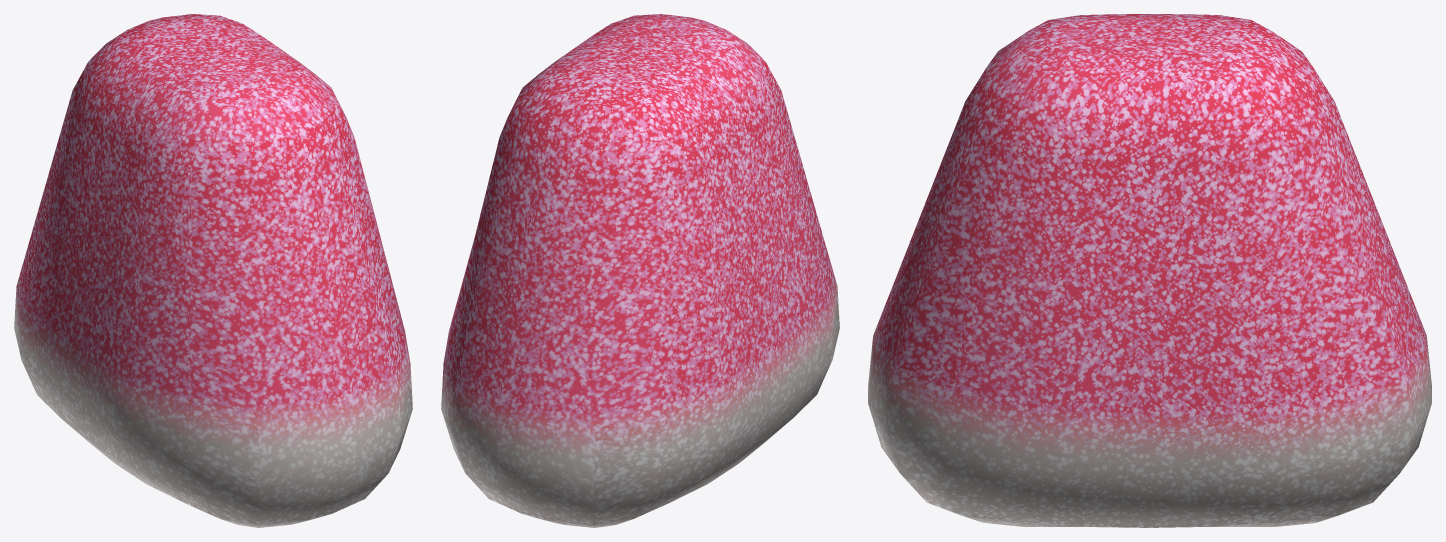
The model's file is Gummy 2 .fbx.
The picture shows the model from 3 angles, left to right: view 1: azimuth 30°, elevation 25°; view 2: azimuth 150°, elevation 25°; view 3: azimuth 270°, elevation 25°; orthographic projection. The views are drawn at different scales.
Visible parts, largest first — view 1: Gummy 2; view 2: Gummy 2; view 3: Gummy 2.
Boxes of the visible parts, x1=… form: Gummy 2: x1=14, y1=14, x2=412, y2=527; Gummy 2: x1=441, y1=14, x2=839, y2=527; Gummy 2: x1=868, y1=14, x2=1431, y2=527.
Size of the model in its own units: 0.0618 by 0.0861 by 0.0945.
